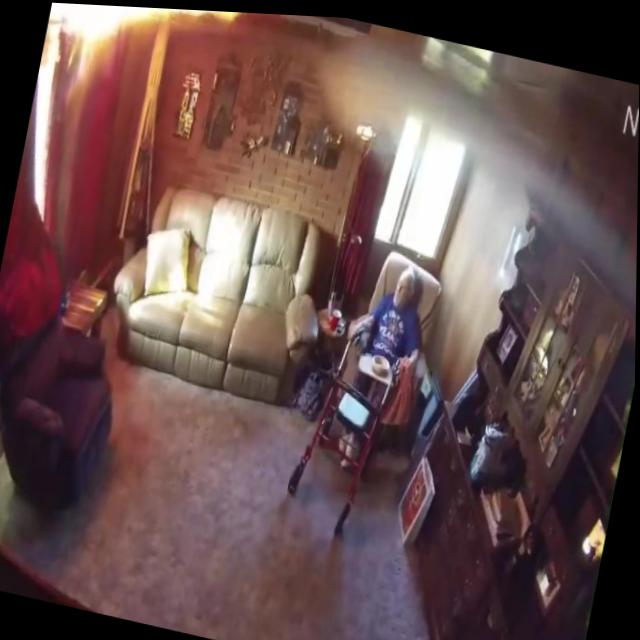fire: (44, 2, 246, 77)
